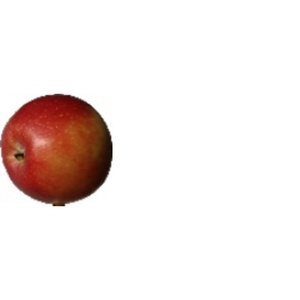maçã braeburn: (1, 90, 115, 208)
